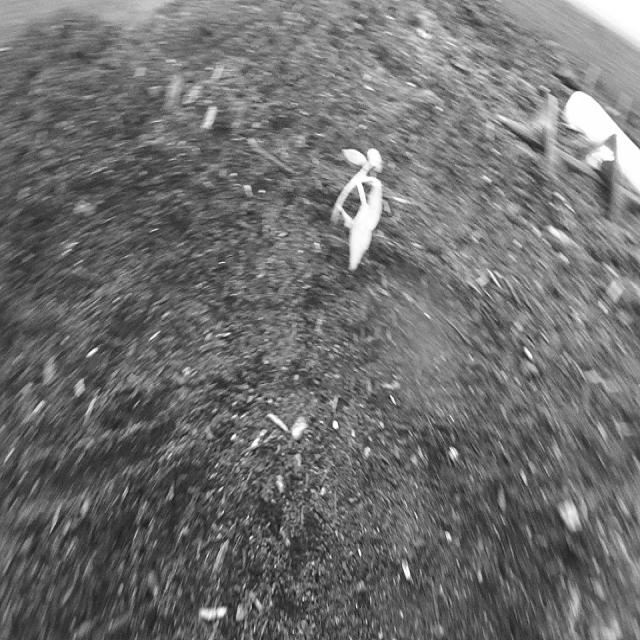Healthy: (330, 143, 385, 274)
